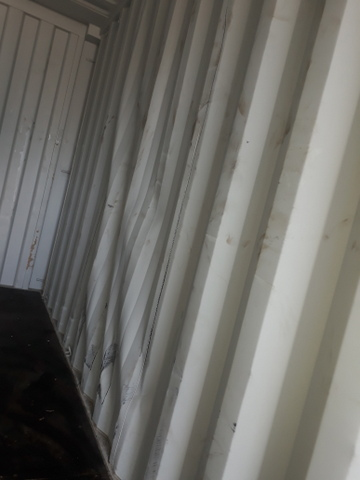moderate: (72, 140, 238, 405)
